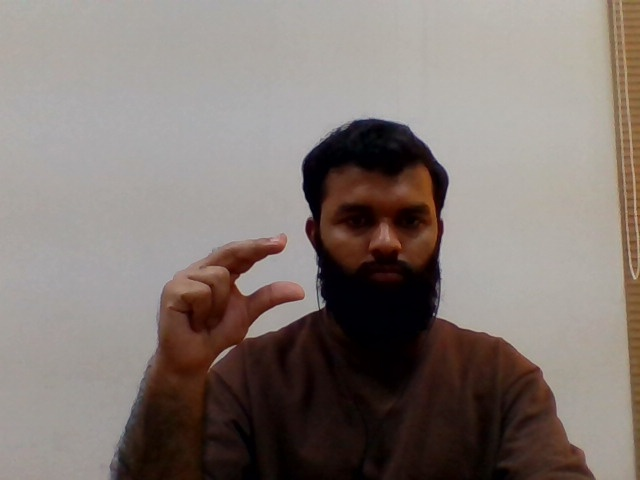No: (140, 228, 310, 376)
